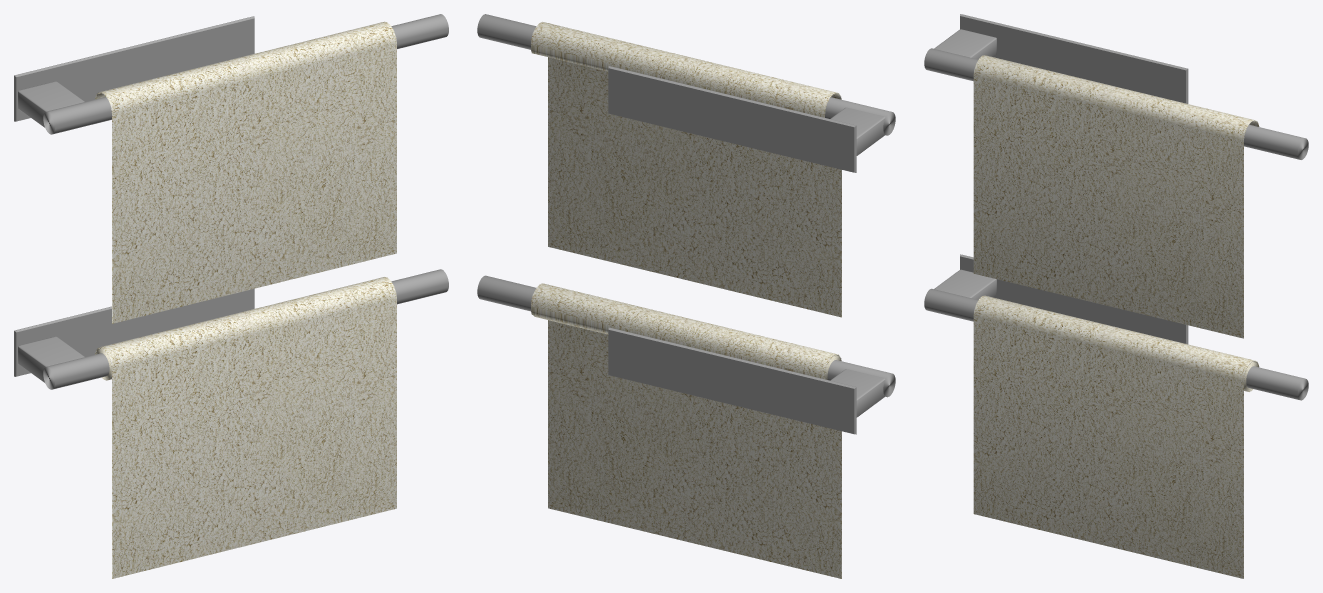
File: toallas baño.fbx
3 renders of one model, left to right at view 1: azimuth 30°, elevation 25°; view 2: azimuth 150°, elevation 25°; view 3: azimuth 330°, elevation 25°, orthographic. The views are drawn at different scales.
Parts seen in each view (by area): view 1: Cube.070, Cube.072; view 2: Cube.070, Cube.072; view 3: Cube.070, Cube.072.
Boxes of the visible parts, x1,y1,x2,y2 form: Cube.070: (95,21,396,578); Cube.072: (14,14,448,389); Cube.070: (531,21,841,578); Cube.072: (477,14,895,434); Cube.070: (973,55,1259,578); Cube.072: (924,14,1308,400).
Size of the model in its own units: 503 by 589 by 96.68.
